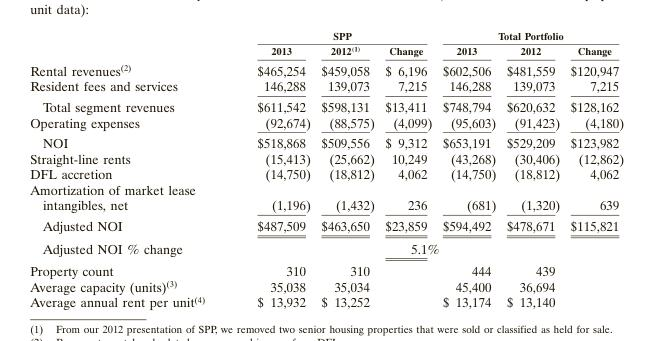table: (29, 28, 623, 309)
table column: (29, 28, 230, 309), (230, 28, 315, 309), (315, 28, 379, 309), (500, 28, 564, 309), (379, 28, 440, 309), (440, 28, 500, 309), (564, 28, 623, 309)
table column header: (29, 28, 623, 59)
table row: (29, 181, 623, 215), (29, 236, 623, 259), (29, 215, 623, 236), (29, 59, 623, 78), (29, 259, 623, 278), (29, 78, 623, 96), (29, 96, 623, 114), (29, 114, 623, 132), (29, 132, 623, 150), (29, 42, 623, 59), (29, 165, 623, 181), (29, 293, 623, 309), (29, 150, 623, 165), (29, 278, 623, 293), (29, 28, 623, 42)
table spanning cell: (230, 28, 440, 42), (440, 28, 623, 42)
